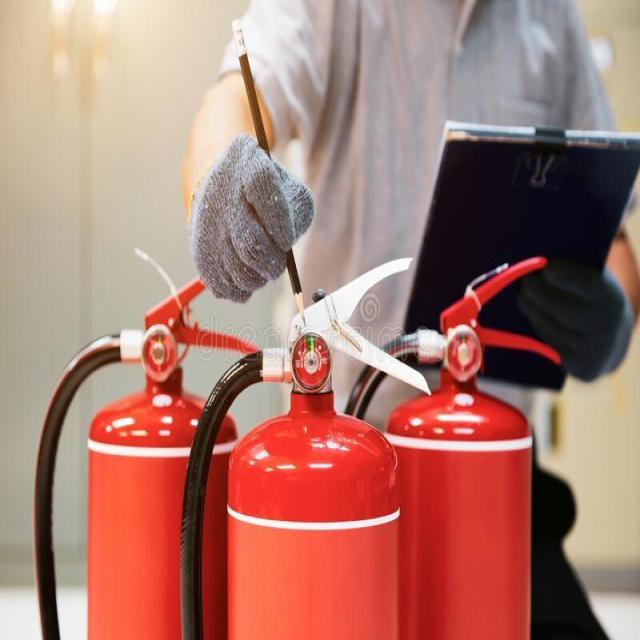fire_extinguisher: (174, 250, 433, 639), (317, 248, 563, 638), (27, 247, 270, 639)
